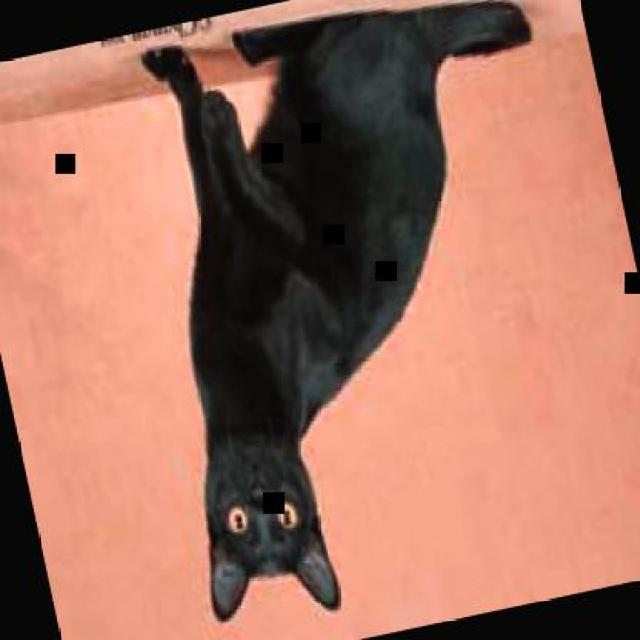cat: (95, 0, 638, 638)
